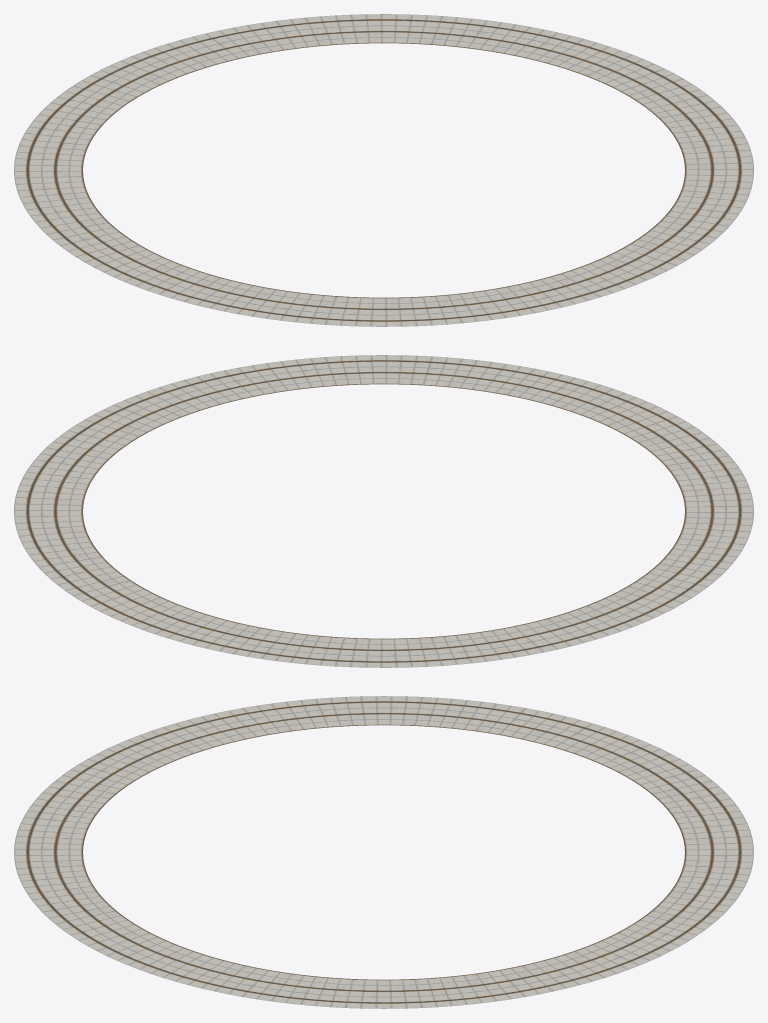
The model's file is InsideMainFloor.dae.
3 views of the same model, one above another, from view 1: azimuth 30°, elevation 25°; view 2: azimuth 150°, elevation 25°; view 3: azimuth 270°, elevation 25° (orthographic).
Visible parts, largest first — view 1: DomeFloor; view 2: DomeFloor; view 3: DomeFloor.
Part boxes in pixels (box(x1,y1,x2,y2)): DomeFloor: box(14, 14, 753, 326); DomeFloor: box(14, 355, 753, 667); DomeFloor: box(14, 696, 753, 1008).
Size of the model in its own units: 195 by 195 by 3.18e-05.
